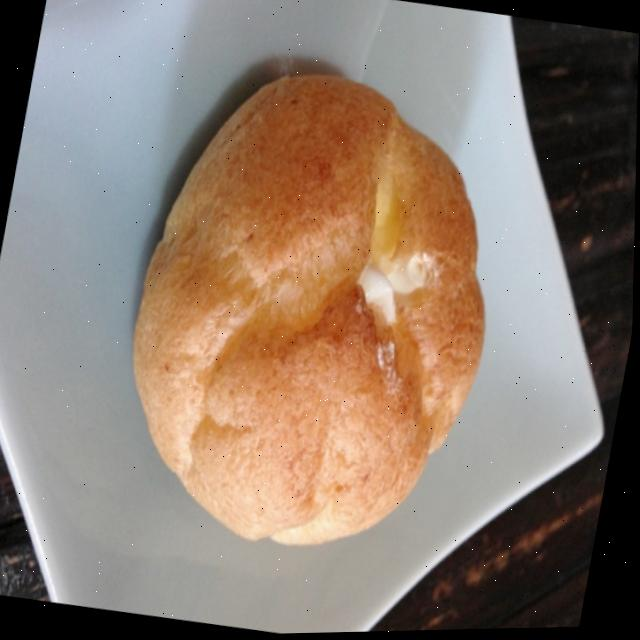炸货点心: (86, 34, 547, 582)
蛋糕甜品: (86, 34, 547, 582)
